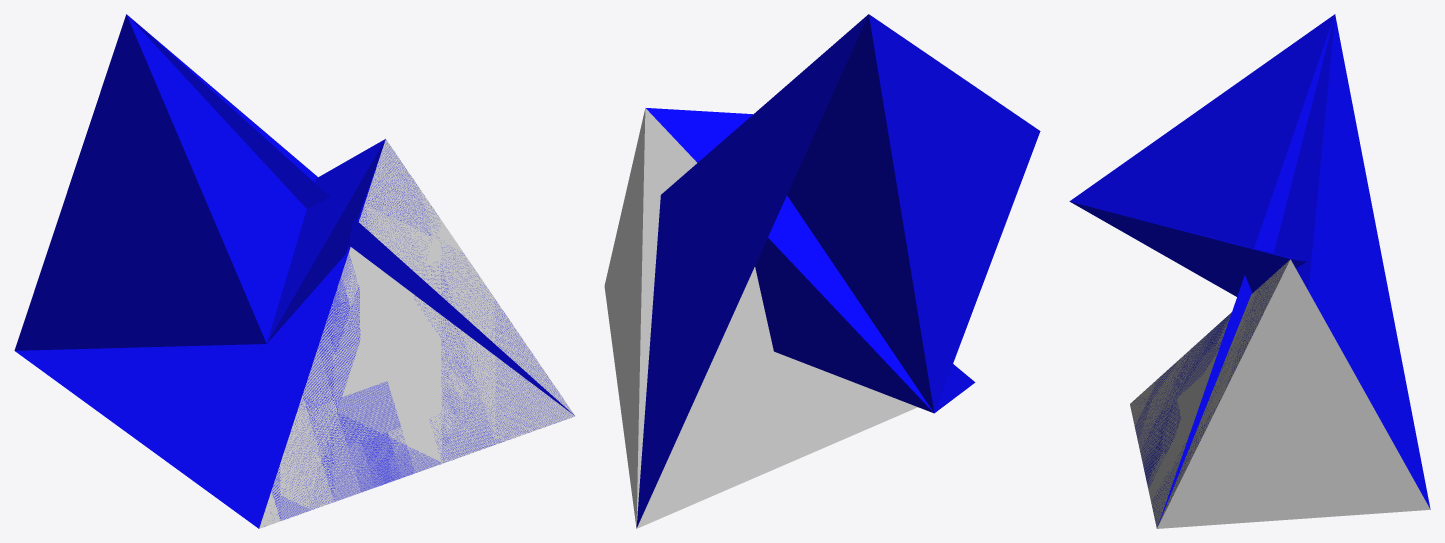
3 views of the same model, side by side, from view 1: azimuth 30°, elevation 25°; view 2: azimuth 150°, elevation 25°; view 3: azimuth 270°, elevation 25° (orthographic). The views are drawn at different scales.
Parts seen in each view (by area): view 1: shtuchka4, shtuchka; view 2: shtuchka4, shtuchka; view 3: shtuchka4, shtuchka.
Part boxes in pixels (x1,y1,x2,y2): shtuchka4: (14,14,574,528); shtuchka: (259,139,575,528); shtuchka4: (636,14,1040,527); shtuchka: (604,108,917,528); shtuchka4: (1069,14,1430,526); shtuchka: (1130,259,1430,528).
Bounding box in the file's own units: 557 × 590 × 454.
